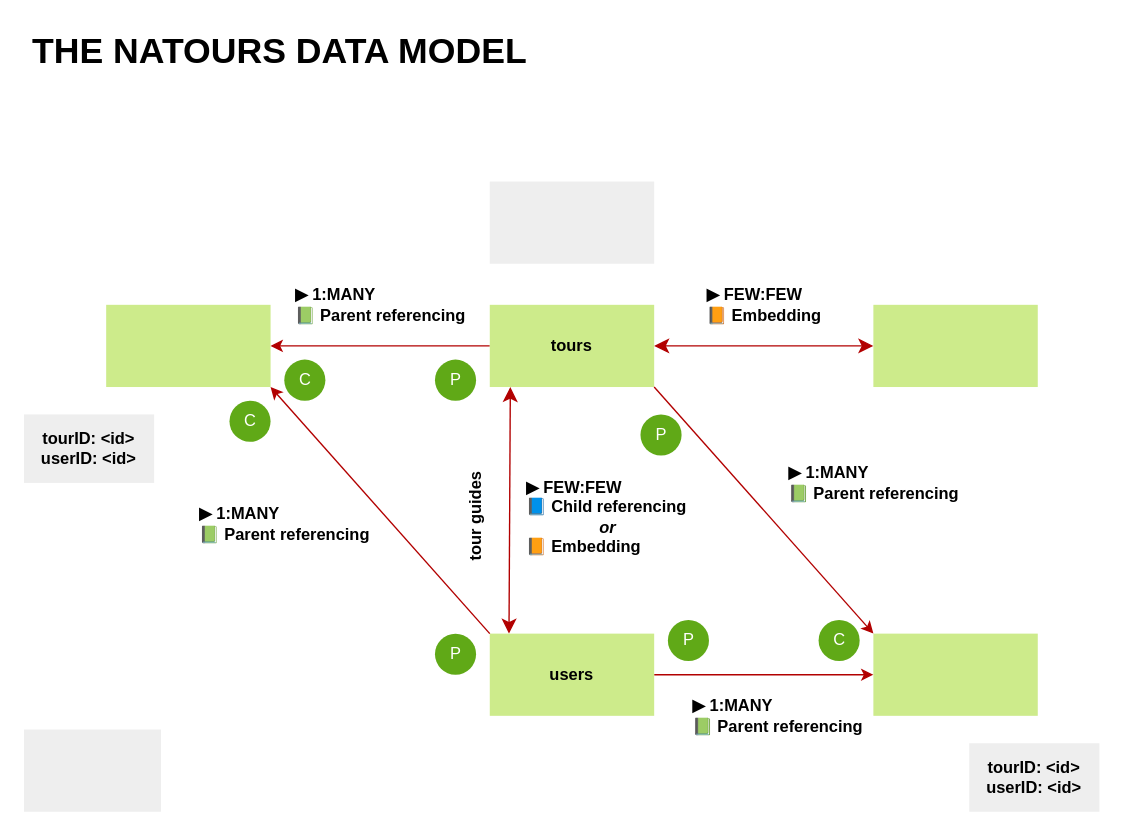
Some shapes in this 1122 by 834 pixel diagram are drawn without their labels. Each missing label, with the centre of its shape:
"bookings" belongs at pixel 187 345.
"locations" belongs at pixel 955 345.
"P Parent C Child" belongs at pixel 91 770.
"reviews" belongs at pixel 955 674.
"userID: [<id>, <id>, ..., <id>]" belongs at pixel 571 222.
